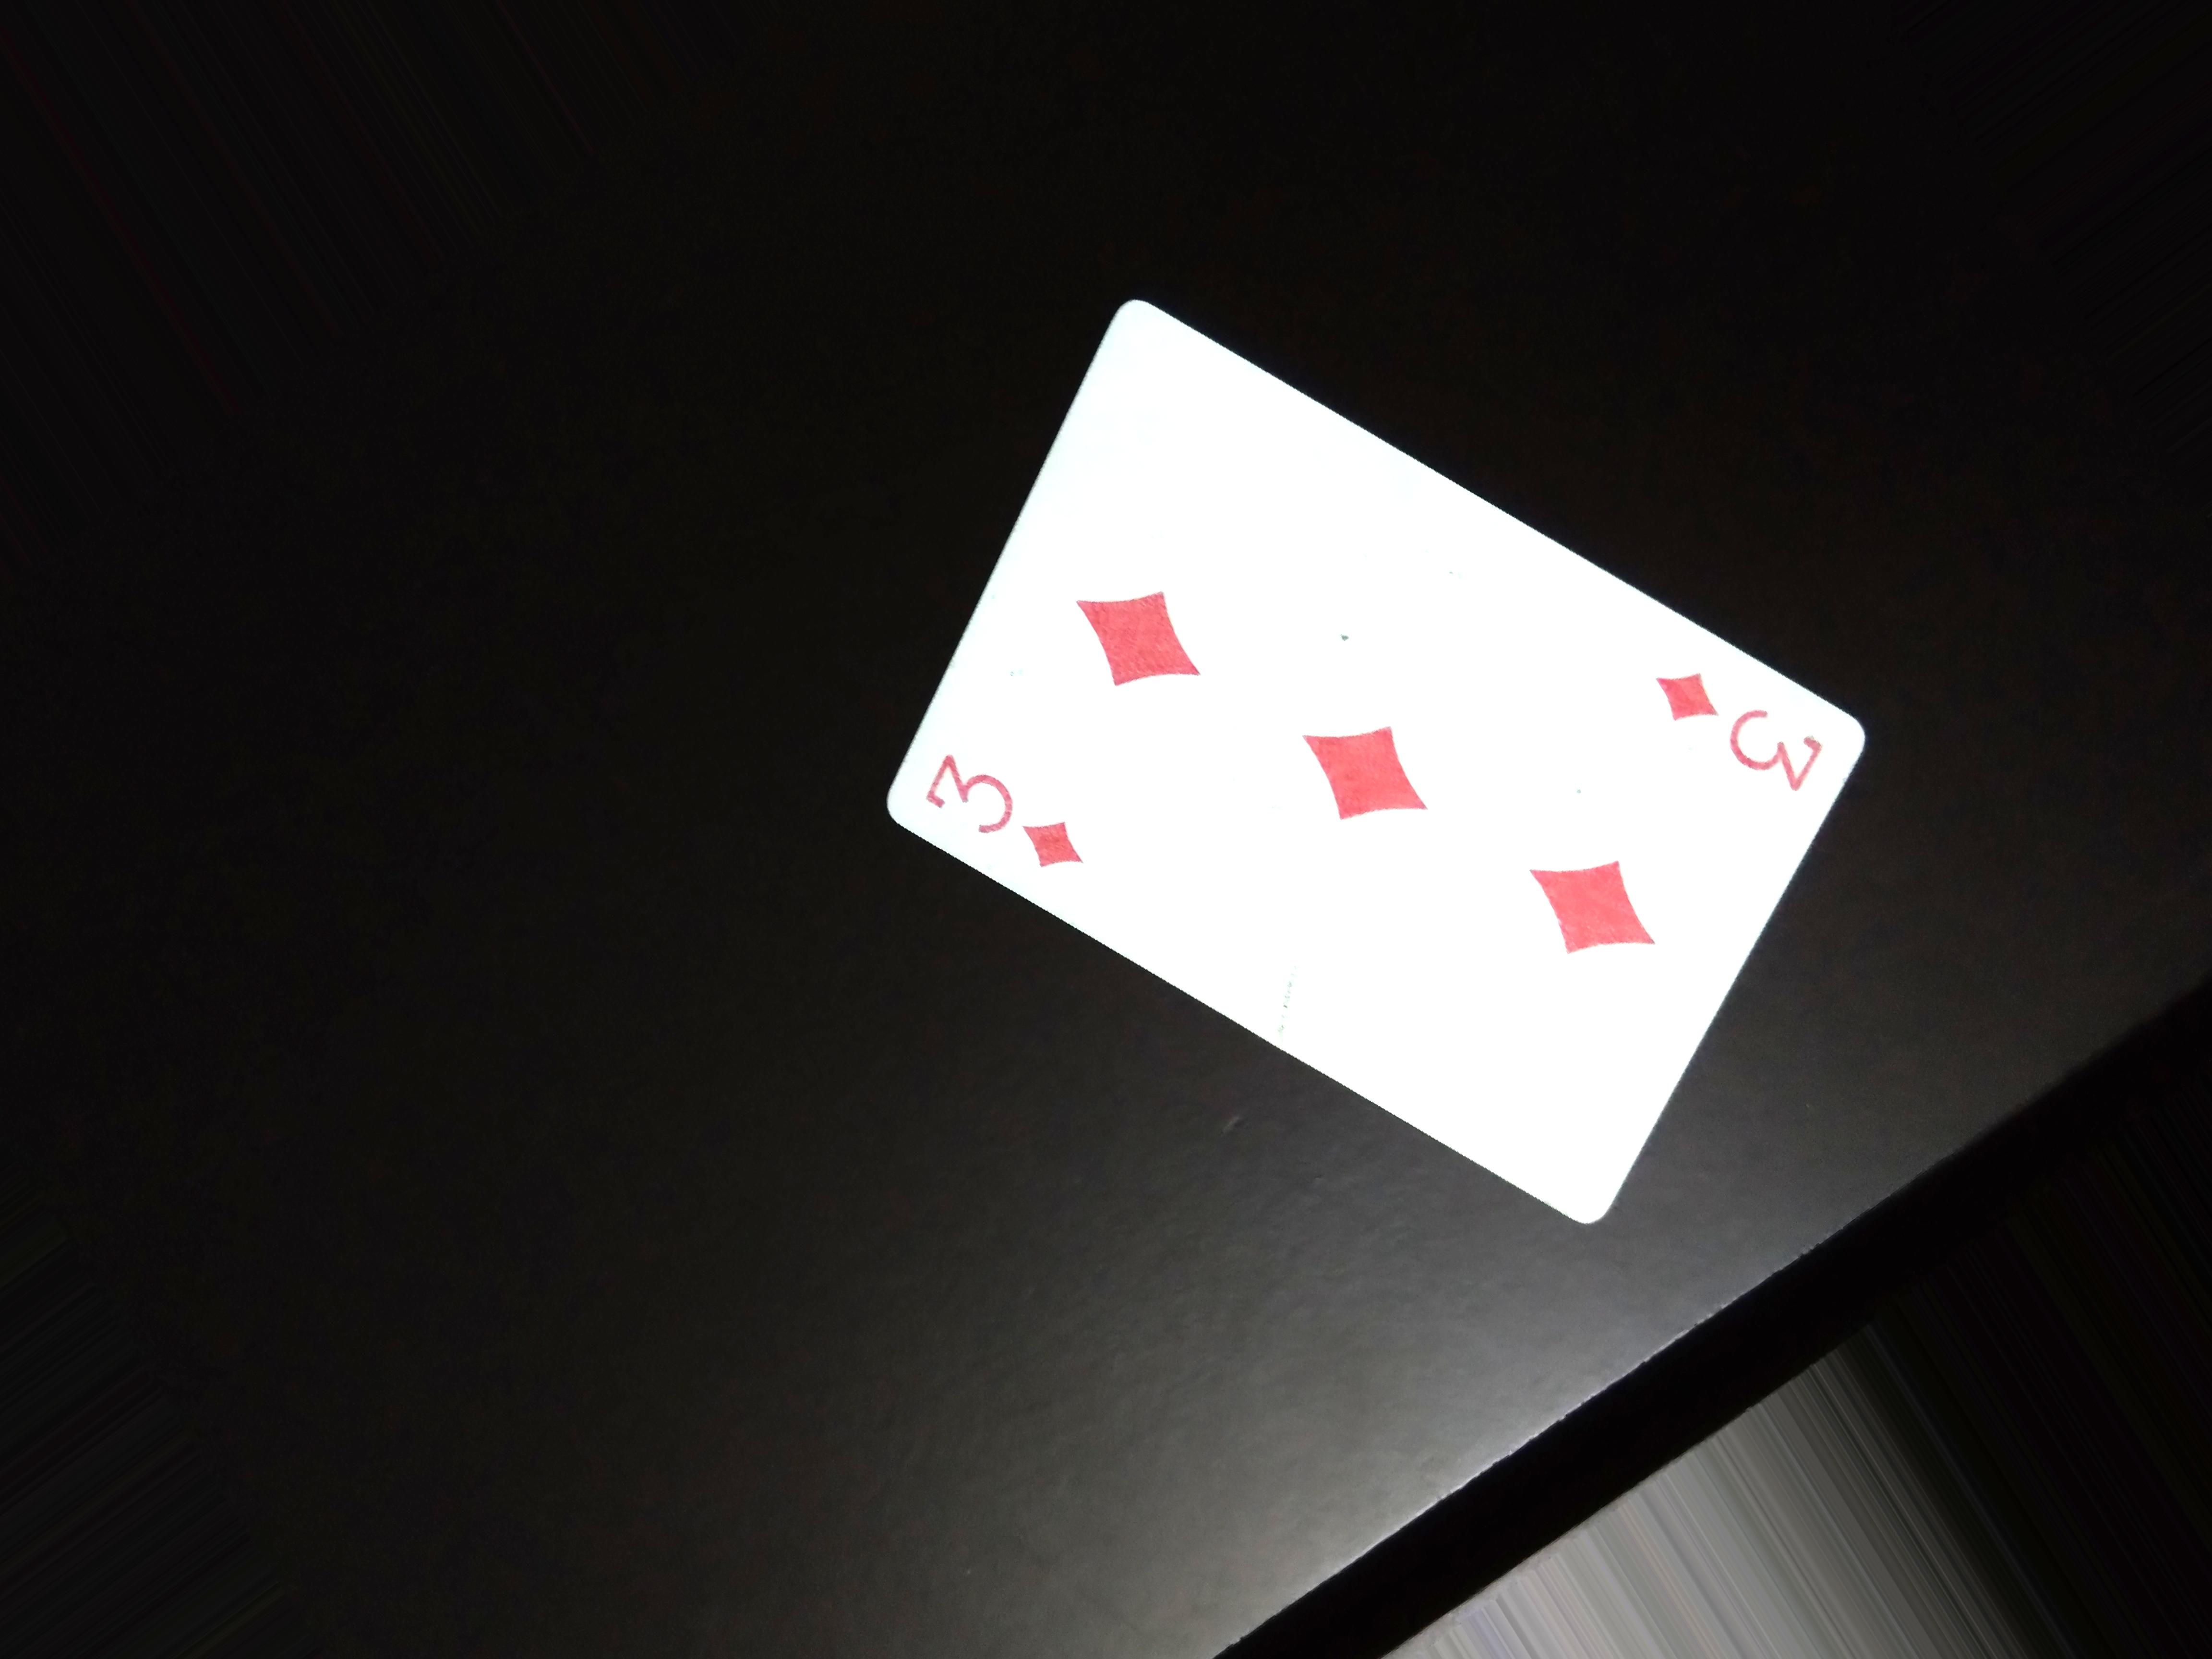3D: (916, 737, 1116, 894)
